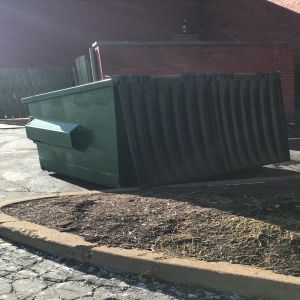Dumpster: (16, 72, 294, 187)
